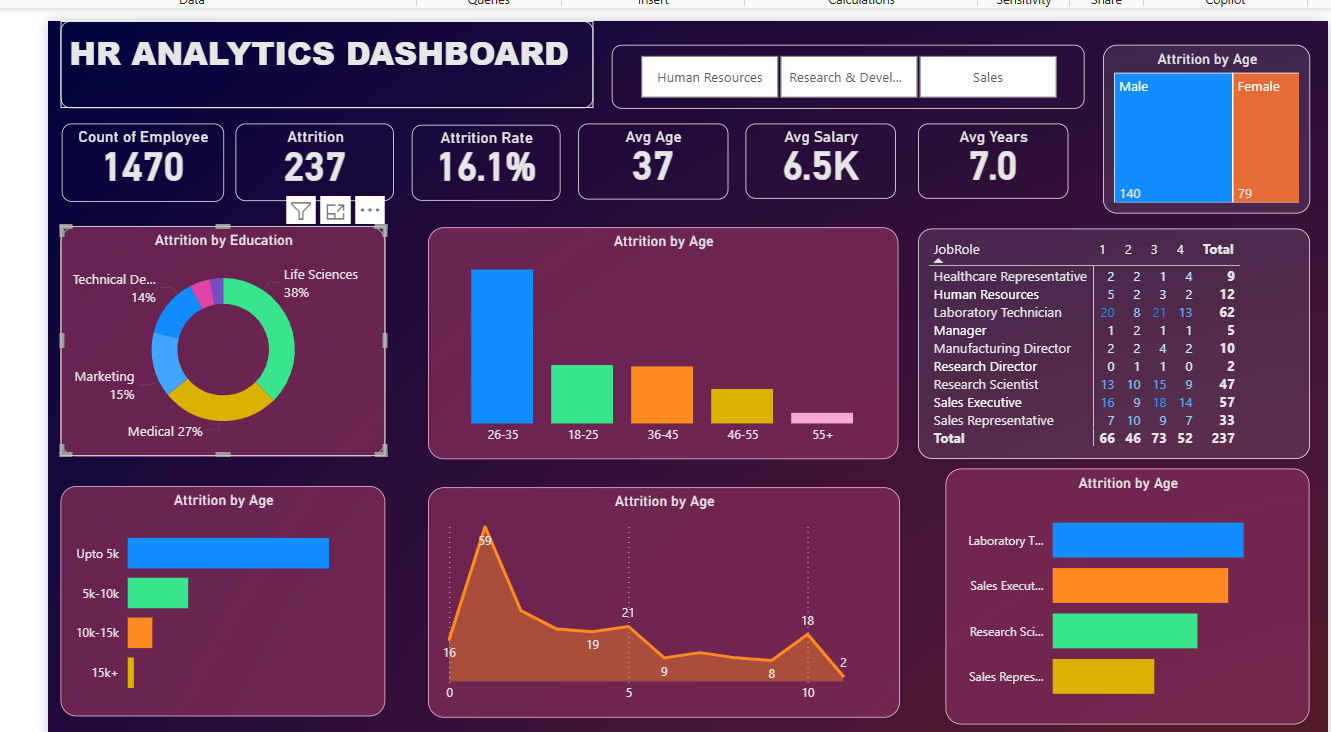

This screenshot's page, from the dashboard's own definition file:
{"tool":"powerbi","page":{"name":"Page 1","canvas":[1280,720],"ordinal":0},"visuals":[{"type":"card","title":"Count of Employee","fields":{"Values":["CountNonNull(HR_Analytics.EmpID)"]},"box":[14,102,162,78],"z":0},{"type":"card","title":"Attrition","fields":{"Values":["Sum(HR_Analytics.AttritionCount)"]},"box":[187.5,102.5,158.8,77.5],"z":1000},{"type":"card","title":"Attrition Rate","fields":{"Values":["Avg(HR_Analytics.AttritionRate)"]},"box":[363.8,103.8,148.8,76],"z":2000},{"type":"card","title":"Avg Age","fields":{"Values":["Avg(HR_Analytics.Age)"]},"box":[530,102,150,76],"z":3000},{"type":"card","title":"Avg Salary","fields":{"Values":["Avg(HR_Analytics.MonthlyIncome)"]},"box":[697.5,102.5,150,75],"z":4000},{"type":"card","title":"Avg Years","fields":{"Values":["Avg(HR_Analytics.YearsAtCompany)"]},"box":[870,102.5,150,75],"z":5000},{"type":"donutChart","title":"Attrition by Education","fields":{"Category":["HR_Analytics.EducationField"],"Y":["Sum(HR_Analytics.AttritionCount)"]},"box":[12.5,205,325,230],"z":6000},{"type":"columnChart","title":"Attrition by Age","fields":{"Category":["HR_Analytics.AgeGroup"],"Y":["Sum(HR_Analytics.AttritionCount)"]},"box":[380,206,470,232],"z":7000},{"type":"barChart","title":"Attrition by Age","fields":{"Category":["HR_Analytics.SalarySlab"],"Y":["Sum(HR_Analytics.AttritionCount)"]},"box":[12.5,465,325,230],"z":8000},{"type":"barChart","title":"Attrition by Age","fields":{"Category":["HR_Analytics.JobRole"],"Y":["Sum(HR_Analytics.AttritionCount)"]},"box":[897.6,447.6,364.3,255.8],"z":9000},{"type":"areaChart","title":"Attrition by Age","fields":{"Category":["HR_Analytics.YearsAtCompany"],"Y":["Sum(HR_Analytics.AttritionCount)"]},"box":[380,466,472,230],"z":10000},{"type":"treemap","title":"Attrition by Age","fields":{"Group":["HR_Analytics.Gender"],"Values":["Sum(HR_Analytics.AttritionCount)"]},"box":[1055,23.8,207.5,168.8],"z":11000},{"type":"slicer","fields":{"Values":["HR_Analytics.Department"]},"box":[563.8,23.8,472.5,63.8],"z":12000},{"type":"textbox","box":[12.5,0,532.5,87.5],"z":13000},{"type":"pivotTable","fields":{"Rows":["HR_Analytics.JobRole"],"Columns":["HR_Analytics.JobSatisfaction"],"Values":["Sum(HR_Analytics.AttritionCount)"]},"box":[870,208,392,230],"z":14000}]}

Visuals, with their boxes on the page's 1280x720 design canvas (x1, y1, x2, y2). These are canvas units, not pixel positions in the 1331x732 screenshot, which may show the page scaled, cropped or inside an application window:
"Count of Employee" card: pyautogui.locateOnScreen(14, 102, 176, 180)
"Attrition" card: pyautogui.locateOnScreen(188, 102, 346, 180)
"Attrition Rate" card: pyautogui.locateOnScreen(364, 104, 513, 180)
"Avg Age" card: pyautogui.locateOnScreen(530, 102, 680, 178)
"Avg Salary" card: pyautogui.locateOnScreen(698, 102, 848, 178)
"Avg Years" card: pyautogui.locateOnScreen(870, 102, 1020, 178)
"Attrition by Education" donutChart: pyautogui.locateOnScreen(12, 205, 338, 435)
"Attrition by Age" columnChart: pyautogui.locateOnScreen(380, 206, 850, 438)
"Attrition by Age" barChart: pyautogui.locateOnScreen(12, 465, 338, 695)
"Attrition by Age" barChart: pyautogui.locateOnScreen(898, 448, 1262, 703)
"Attrition by Age" areaChart: pyautogui.locateOnScreen(380, 466, 852, 696)
"Attrition by Age" treemap: pyautogui.locateOnScreen(1055, 24, 1262, 193)
slicer - HR_Analytics.Department: pyautogui.locateOnScreen(564, 24, 1036, 88)
textbox: pyautogui.locateOnScreen(12, 0, 545, 88)
pivotTable - HR_Analytics.JobRole x HR_Analytics.JobSatisfaction: pyautogui.locateOnScreen(870, 208, 1262, 438)
